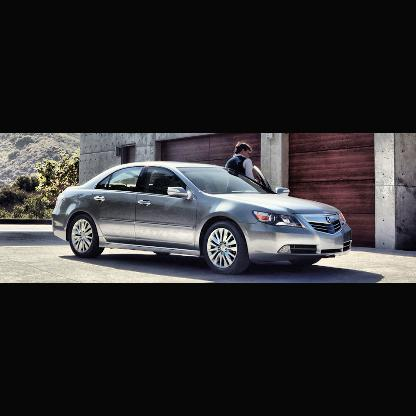Acura RL Sedan 2012: (50, 160, 354, 273)
